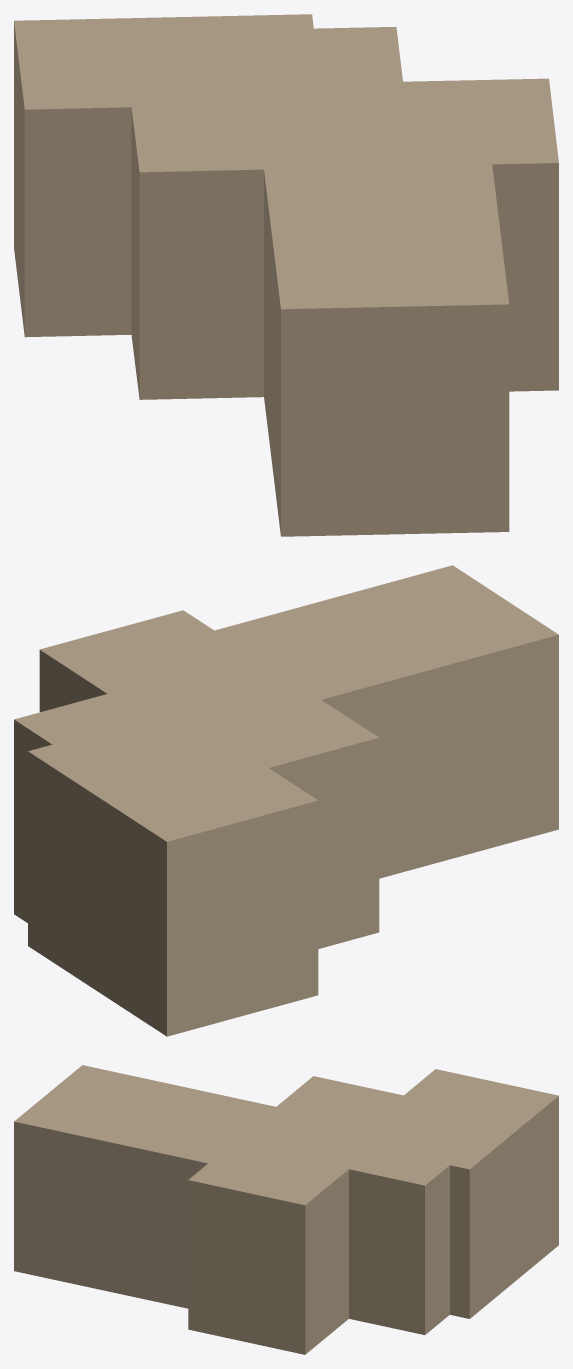
Rendered from bld_101353657.dae.
The picture shows the model from 3 angles, top to bottom: view 1: azimuth 30°, elevation 25°; view 2: azimuth 150°, elevation 25°; view 3: azimuth 270°, elevation 25°; orthographic projection. The views are drawn at different scales.
Visible parts, largest first — view 1: bld_101353657; view 2: bld_101353657; view 3: bld_101353657.
Boxes of the visible parts, bbox=[...] form: bld_101353657: bbox=[14, 14, 558, 536]; bld_101353657: bbox=[14, 565, 558, 1036]; bld_101353657: bbox=[14, 1065, 558, 1354].
Bounding box in the file's own units: 16.09 × 26.42 × 8.
